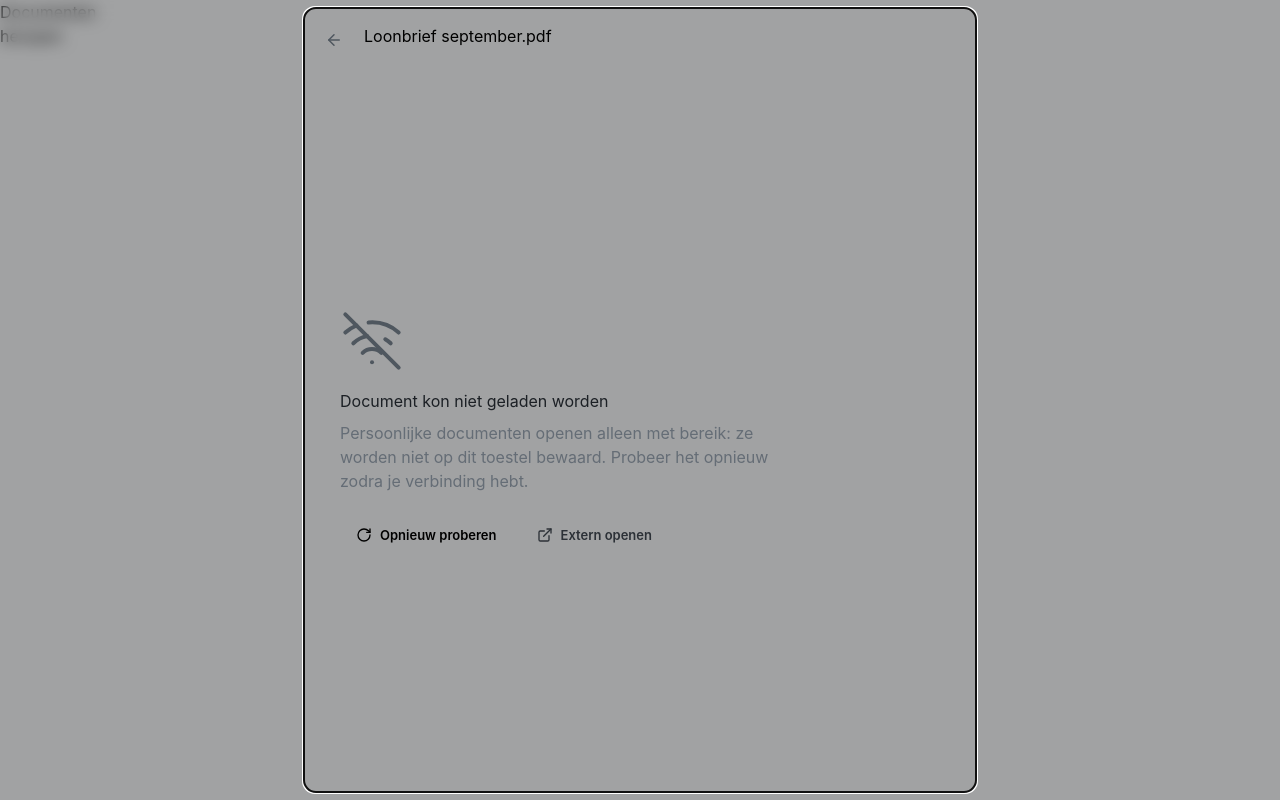
BijlageViewer: een persoonlijk document, in de app en niet op het toestel › Opnieuw proberen haalt het document echt op, ook als de bereikstatus nog "offline" zegt
expect the text "Persoonlijke documenten openen alleen met bereik" is shown: met, box x1=340 y1=423 x2=768 y2=491
What coordinates should you click on to do the following:
click the button "Opnieuw proberen"
I would click on:
 (426, 535)
Its box is x1=340 y1=513 x2=512 y2=557.
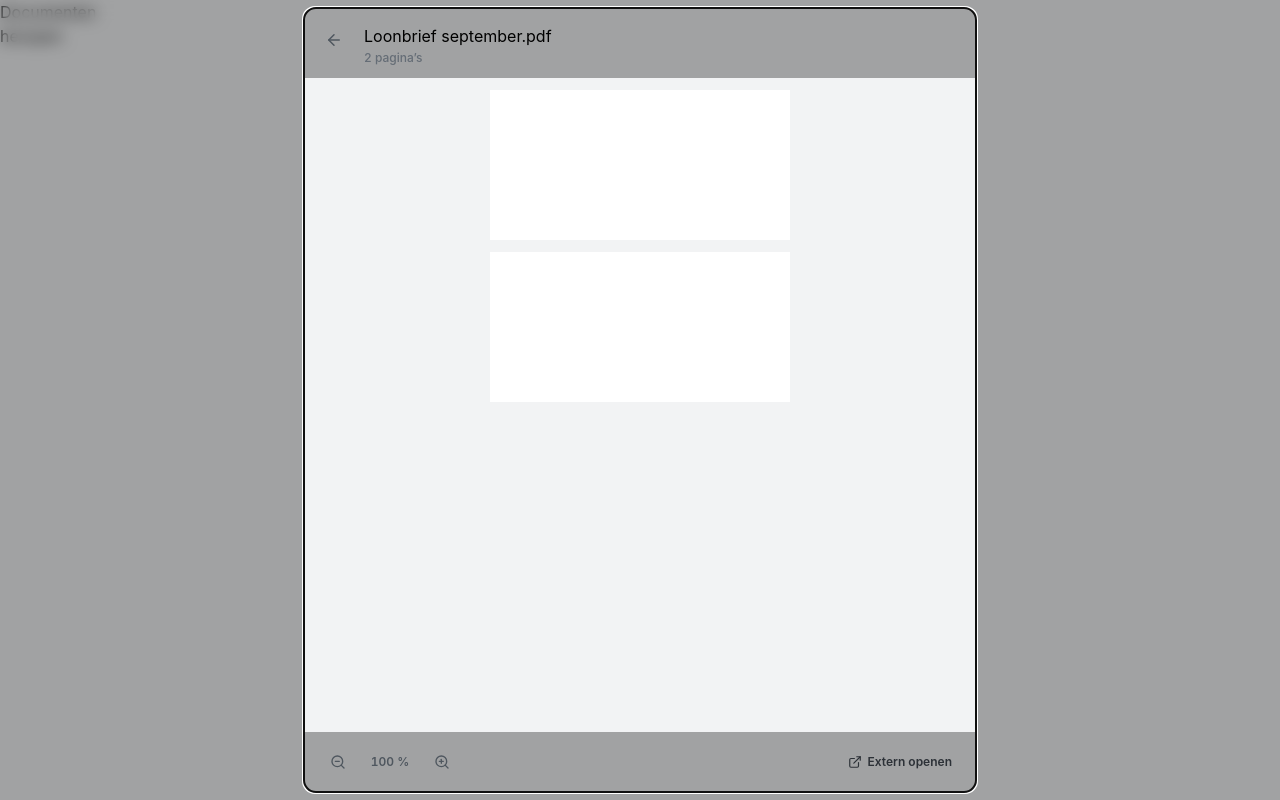
expect the text "2 pagina’s" is shown: met, box x1=364 y1=50 x2=422 y2=65
